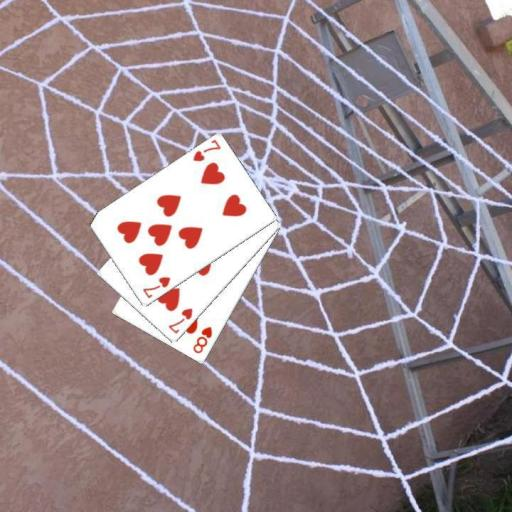card-corner: (165, 305, 194, 336), (190, 136, 222, 164), (139, 274, 172, 300), (190, 324, 213, 356)
